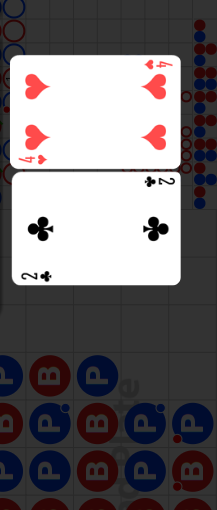2C: (20, 268, 55, 282)
4H: (18, 152, 49, 165)
